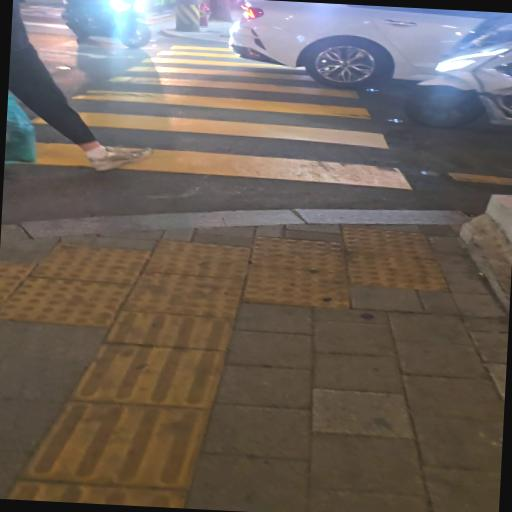yellow-crosswalk: (4, 28, 451, 205)
